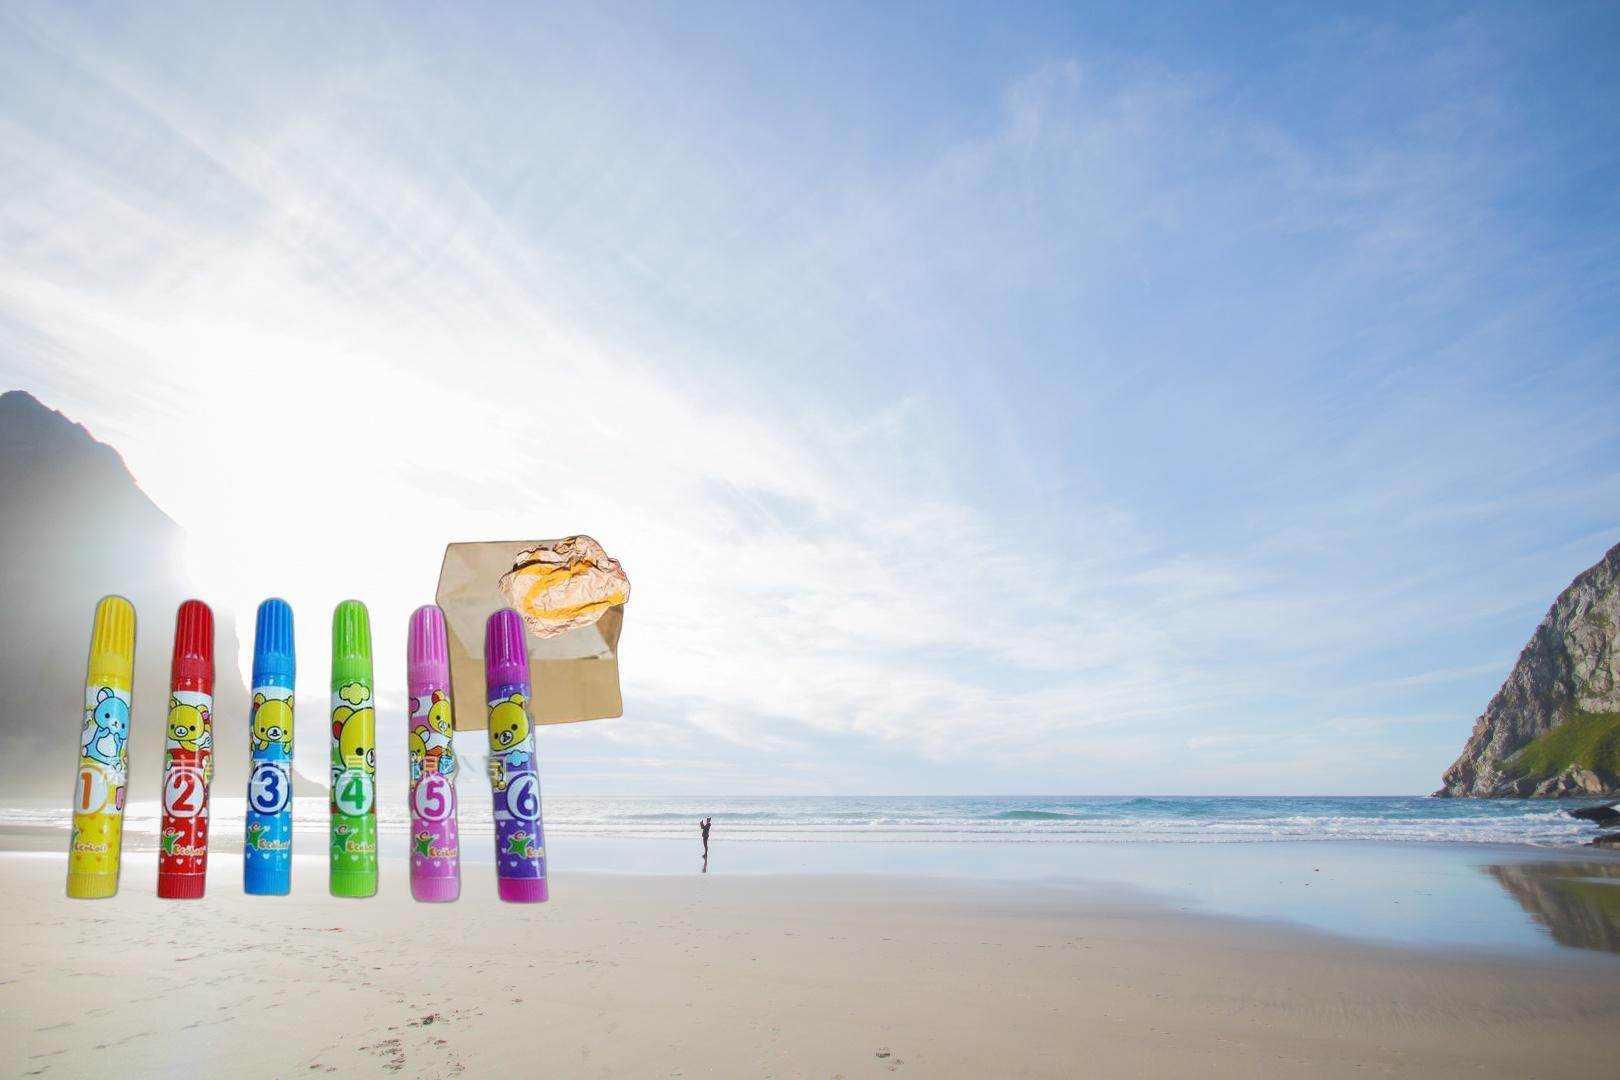paper-bag: (424, 532, 632, 735)
penholder: (63, 591, 553, 908)
